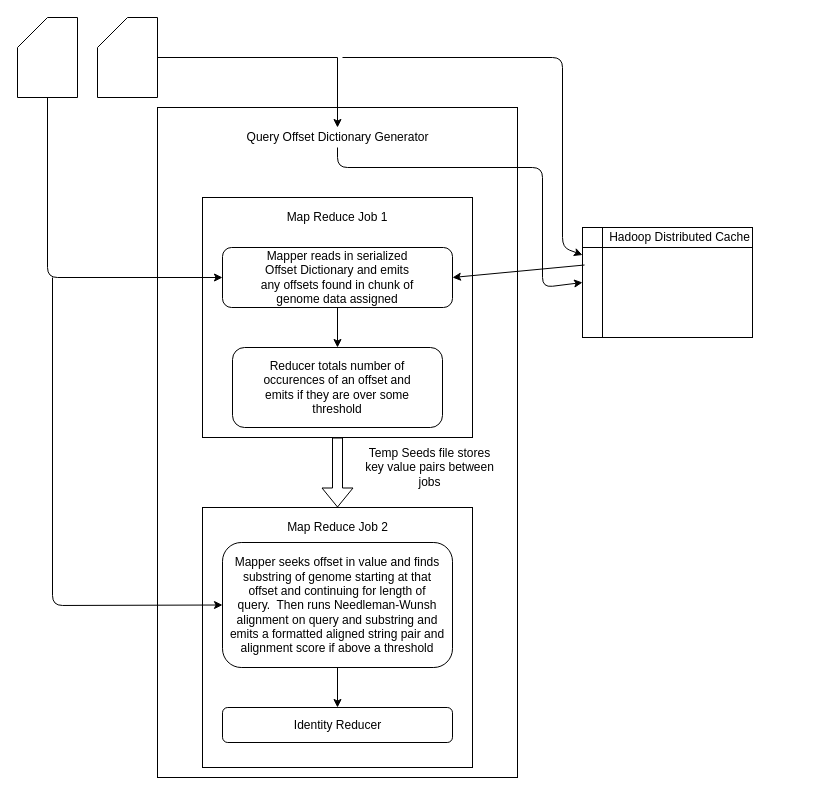
Some shapes in this 815 by 795 pixel diagram are drawn without their labels. The centre of each missing label's shape, as x and y in pixels:
"Genome" belongs at point 47,57.
"Query" belongs at point 127,57.
